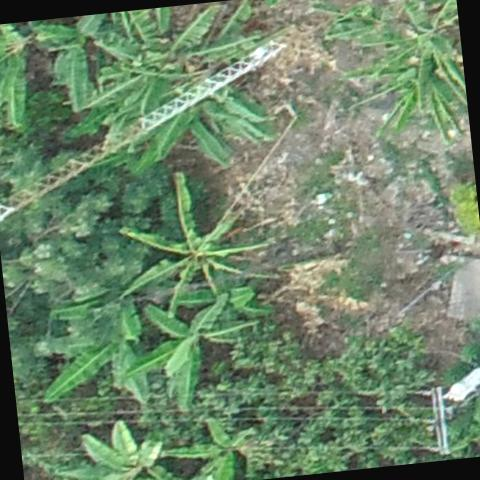Banana-plant: (106, 166, 286, 314), (76, 0, 276, 109), (126, 288, 260, 412), (107, 68, 267, 170), (354, 35, 469, 153), (356, 0, 465, 99), (55, 410, 173, 480)
